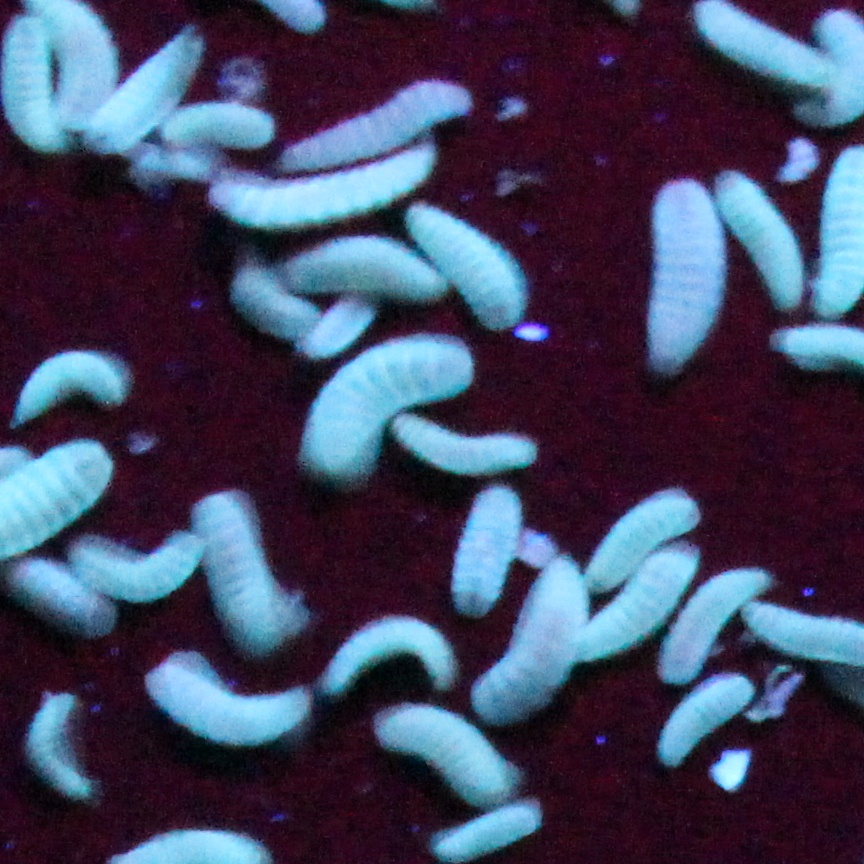larve: (294, 344, 478, 480), (414, 204, 546, 336), (302, 76, 471, 160), (641, 178, 714, 372), (702, 12, 834, 108), (150, 672, 306, 752), (210, 500, 294, 648), (209, 168, 430, 224), (570, 484, 702, 572), (490, 564, 554, 744), (586, 568, 698, 664), (370, 712, 490, 800), (338, 620, 462, 704), (22, 688, 102, 808), (730, 180, 798, 304), (118, 32, 190, 148), (442, 500, 518, 608), (294, 244, 454, 288), (10, 352, 134, 408), (228, 260, 317, 333), (426, 808, 550, 860), (18, 16, 66, 148), (686, 668, 746, 768), (164, 109, 275, 147), (94, 12, 98, 136)
